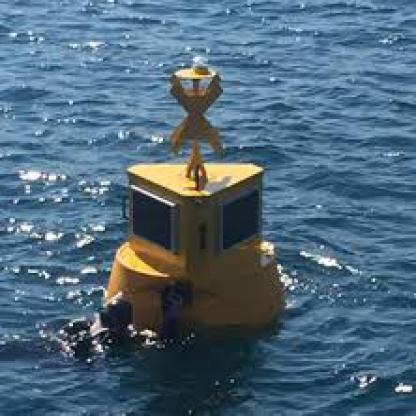buoy: (81, 48, 292, 341)
